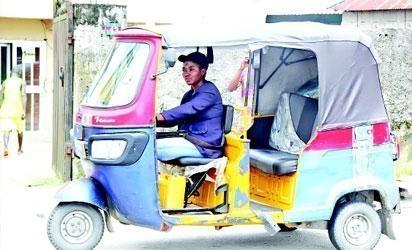keke: (41, 18, 398, 250)
